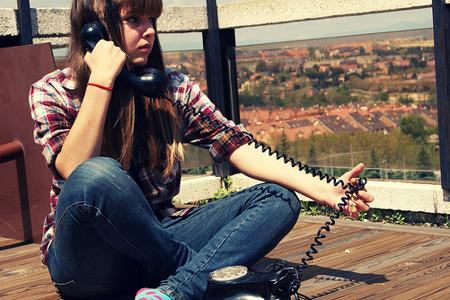person: (31, 1, 373, 300)
